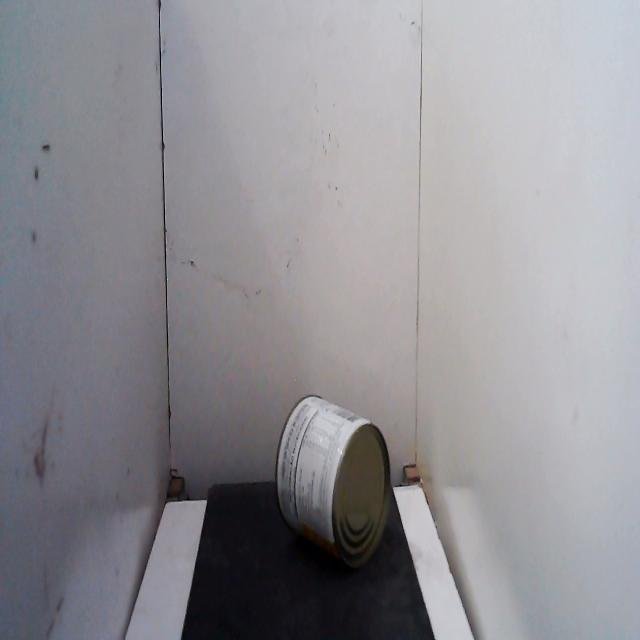metal: (269, 385, 394, 580)
